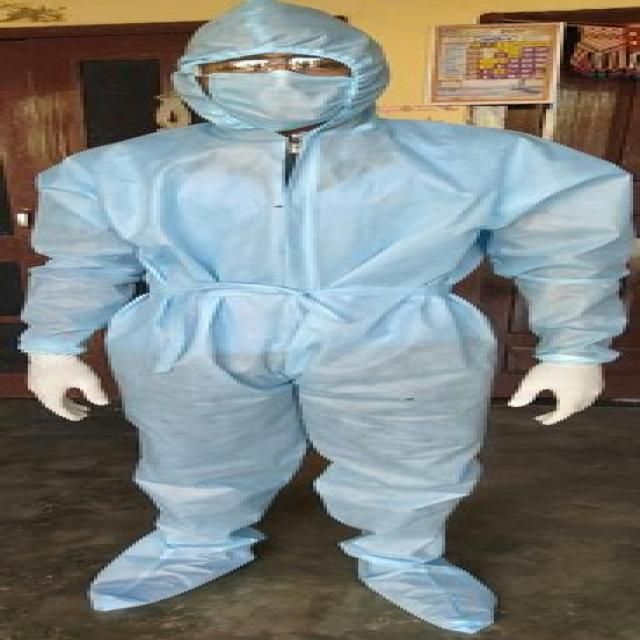Coverall: (10, 5, 622, 636)
Gloves: (42, 339, 230, 428), (480, 364, 630, 468)
Goggles: (202, 41, 365, 83)
Mask: (191, 68, 421, 114)
